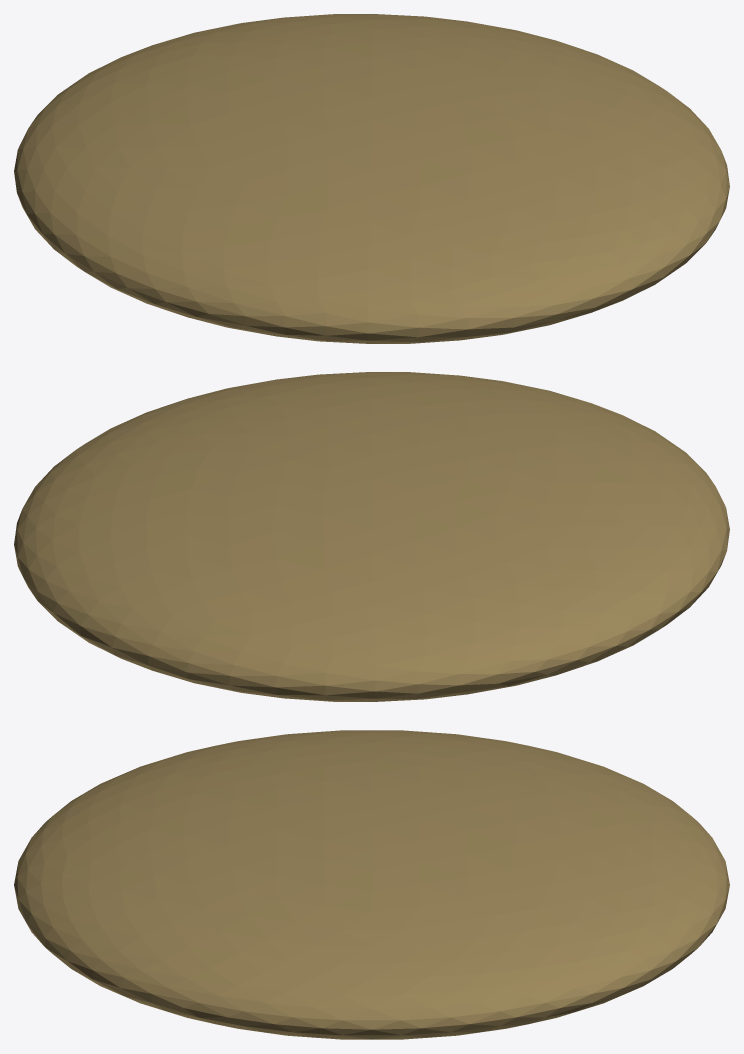
File: ear_inner_left.obj
3 renders of one model, top to bottom at view 1: azimuth 30°, elevation 25°; view 2: azimuth 150°, elevation 25°; view 3: azimuth 270°, elevation 25°, orthographic. The views are drawn at different scales.
Size of the model in its own units: 0.044 by 0.008 by 0.046.
